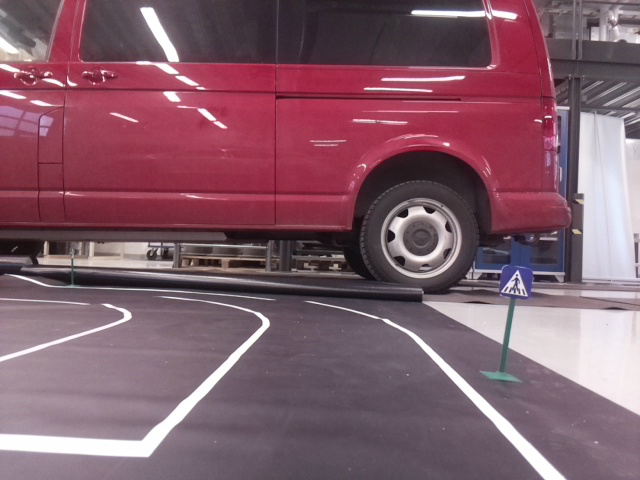Crosswalk: (500, 264, 529, 297)
